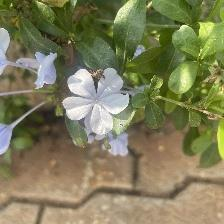chitrak: (65, 67, 136, 142)
